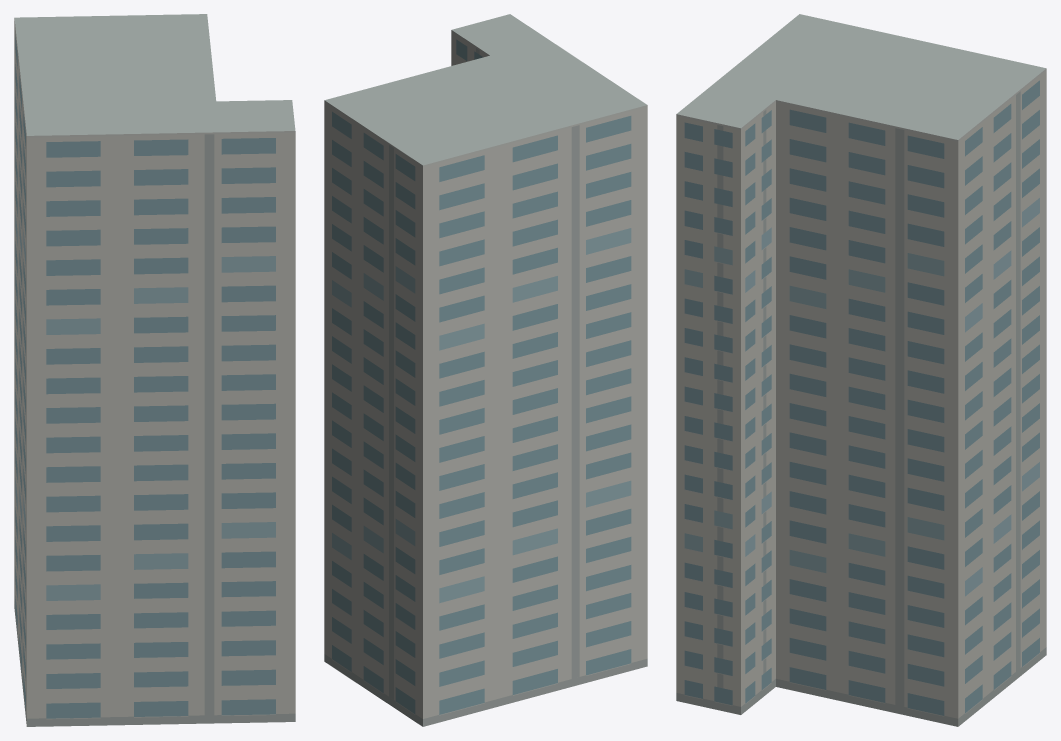
The model's file is residential-77e3d097-825e-4107-ae91-ff5d73c3d3f6.glb.
3 renders of one model, left to right at view 1: azimuth 30°, elevation 25°; view 2: azimuth 150°, elevation 25°; view 3: azimuth 270°, elevation 25°, orthographic. The views are drawn at different scales.
Parts seen in each view (by area): view 1: residential-77e3d097-825e-4107-ae91-ff5d73c3d3f6.tmp; view 2: residential-77e3d097-825e-4107-ae91-ff5d73c3d3f6.tmp; view 3: residential-77e3d097-825e-4107-ae91-ff5d73c3d3f6.tmp.
Part boxes in pixels (x1=…): residential-77e3d097-825e-4107-ae91-ff5d73c3d3f6.tmp: x1=14, y1=14, x2=295, y2=726; residential-77e3d097-825e-4107-ae91-ff5d73c3d3f6.tmp: x1=324, y1=14, x2=647, y2=726; residential-77e3d097-825e-4107-ae91-ff5d73c3d3f6.tmp: x1=676, y1=14, x2=1046, y2=726.
Bounding box in the file's own units: 36.42 × 79 × 45.17.
